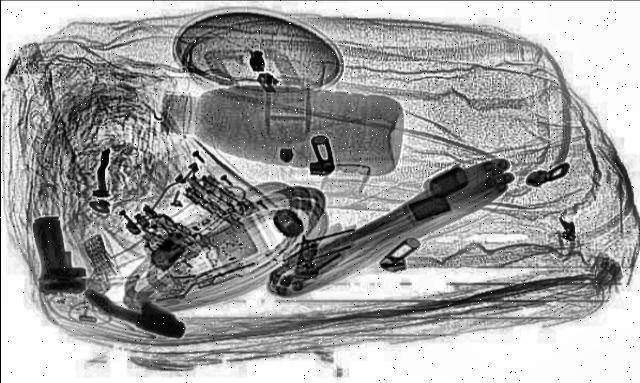Gun: (30, 213, 89, 293)
